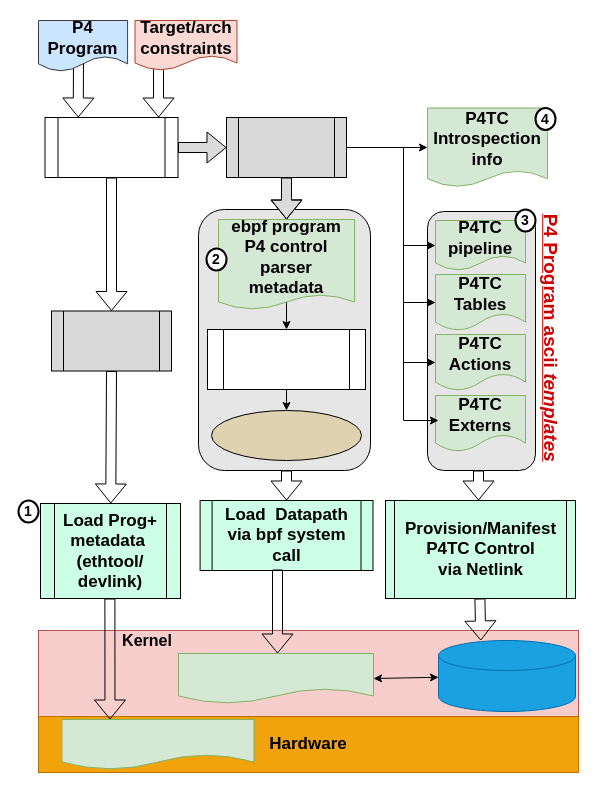
Some shapes in this 596 by 790 pixel diagram are drawn without their labels. Here are the shapes that lost their labels. From the top down, the centre of each, then its label:
At pixel 111 147: "P4 Compiler Frontend + Core".
At pixel 286 147: "P4TC Backend".
At pixel 111 340: "Vendor Backend".
At pixel 286 359: "Clang compiler with ebpf backend".
At pixel 286 435: "ebpf binary".
At pixel 276 678: "ebpf P4 program".
At pixel 507 676: "P4 runtime objects (tables, externs,etc)".
At pixel 157 744: "P4 program hardware abstraction".
